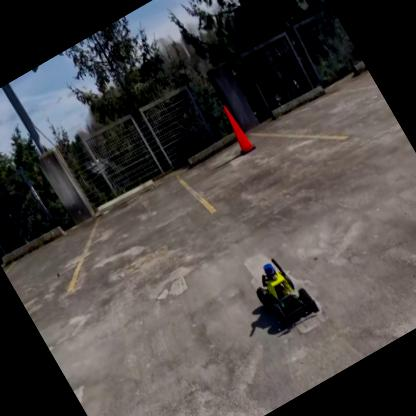cone: (213, 99, 257, 157)
mushr_car: (241, 247, 328, 344)
